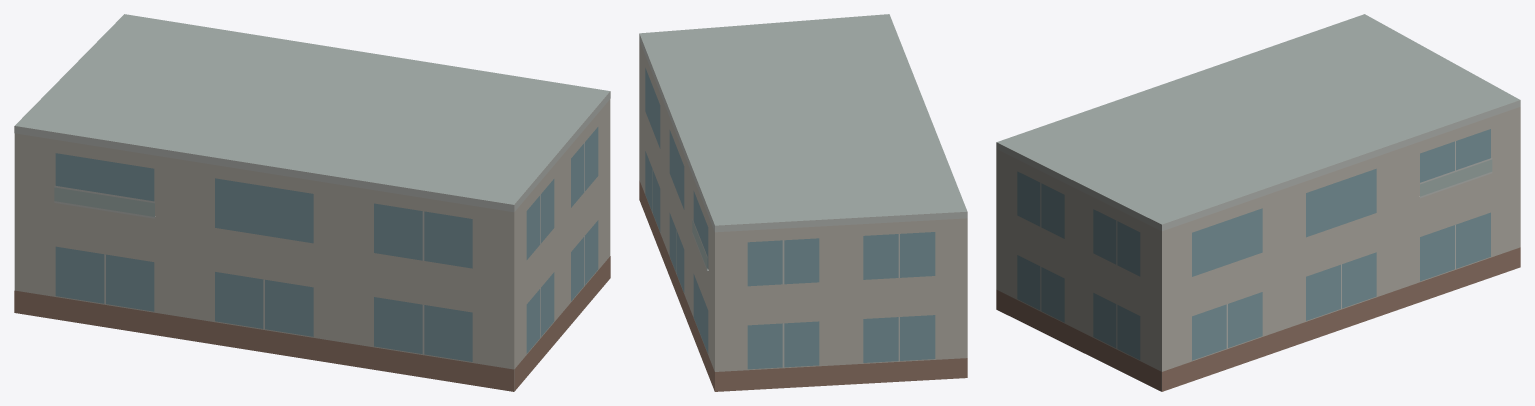
Rendered from survey-upis-32677975.glb.
3 views of the same model, side by side, from view 1: azimuth 30°, elevation 25°; view 2: azimuth 150°, elevation 25°; view 3: azimuth 270°, elevation 25° (orthographic). The views are drawn at different scales.
Parts seen in each view (by area): view 1: survey-upis-32677975.tmp; view 2: survey-upis-32677975.tmp; view 3: survey-upis-32677975.tmp.
Boxes of the visible parts, x1=… form: survey-upis-32677975.tmp: x1=14, y1=14, x2=610, y2=391; survey-upis-32677975.tmp: x1=639, y1=14, x2=967, y2=391; survey-upis-32677975.tmp: x1=996, y1=14, x2=1520, y2=391.
Size of the model in its own units: 16.49 by 6.1 by 17.34.
